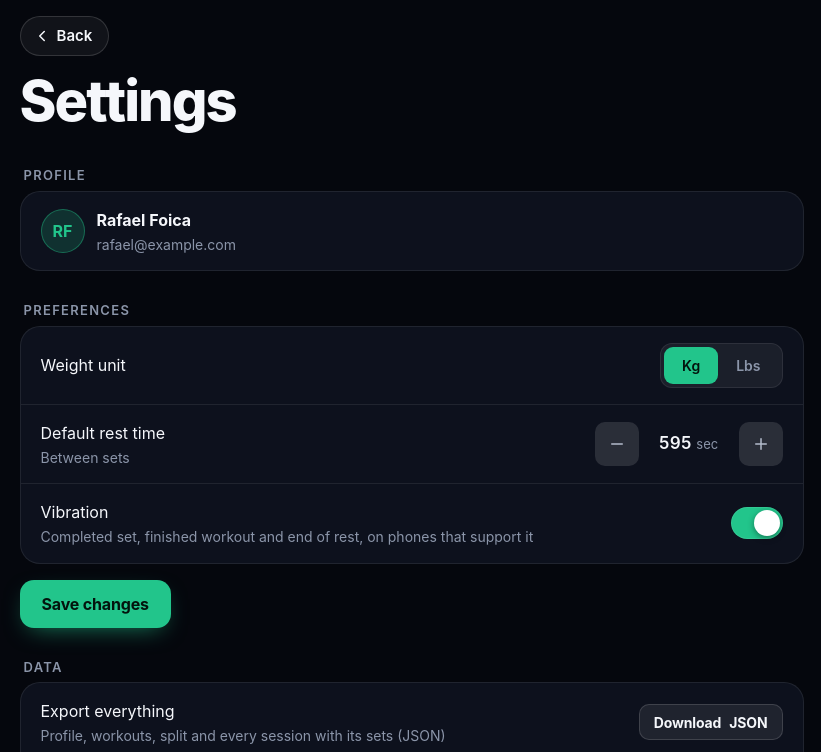
Test: SettingsPage › caps the rest time at the maximum
Check: the heading "Settings" is shown, box [20,67,236,135]
Click the button named "Increase rest time": (760, 444) [738,422,782,466]
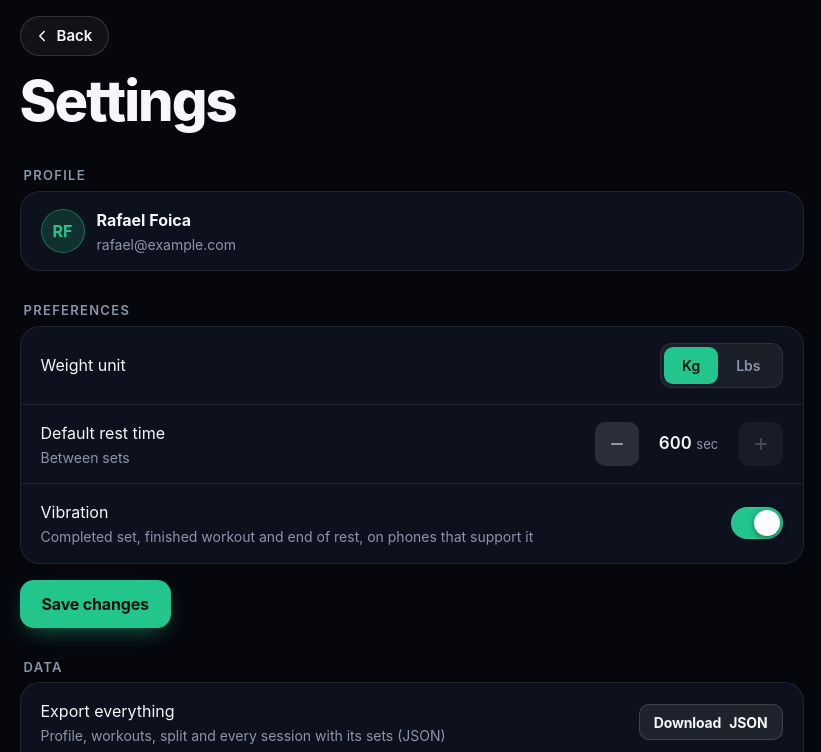
Check: the element named "Default rest time in seconds" shows "600", box [659,433,692,453]
Check: the button named "Increase rest time" is disabled, box [738,422,782,466]
